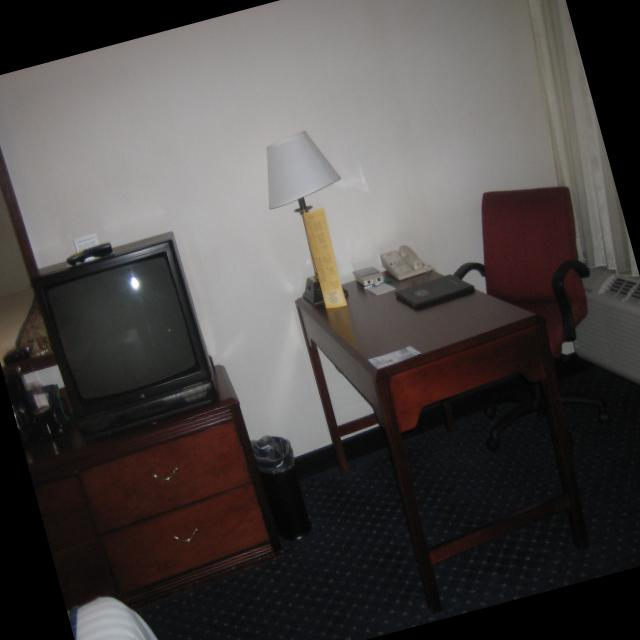bed -occluded-: (68, 594, 157, 640)
book case: (394, 274, 477, 310)
box contants: (352, 267, 386, 284)
carpet floor: (54, 363, 640, 640)
chair -occluded-: (452, 187, 607, 447)
curtain crop: (525, 0, 639, 276)
desk calendar: (294, 260, 589, 609)
dressor: (18, 358, 280, 621)
glass ceiling: (33, 405, 58, 440)
heater: (563, 265, 640, 387)
lamp crop: (265, 130, 349, 303)
menu: (304, 209, 347, 308)
mirror crop: (0, 150, 80, 428)
paper cup with straws: (366, 345, 423, 367), (73, 233, 100, 255), (366, 281, 394, 294)
pen holder: (363, 277, 390, 290)
remote: (63, 242, 112, 265)
screen occluded: (44, 252, 198, 406)
telephone booth: (380, 244, 435, 279)
television cabinet: (33, 230, 216, 441)
trash compactor: (250, 434, 313, 539)
